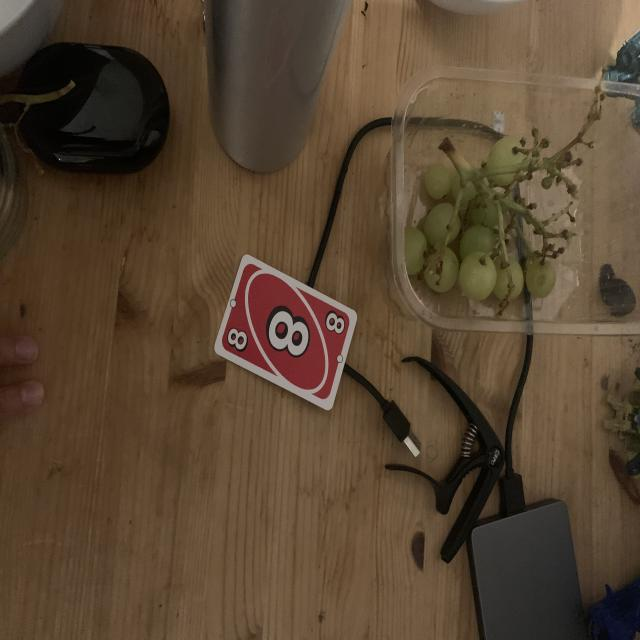lred-8: (226, 326, 252, 354)
